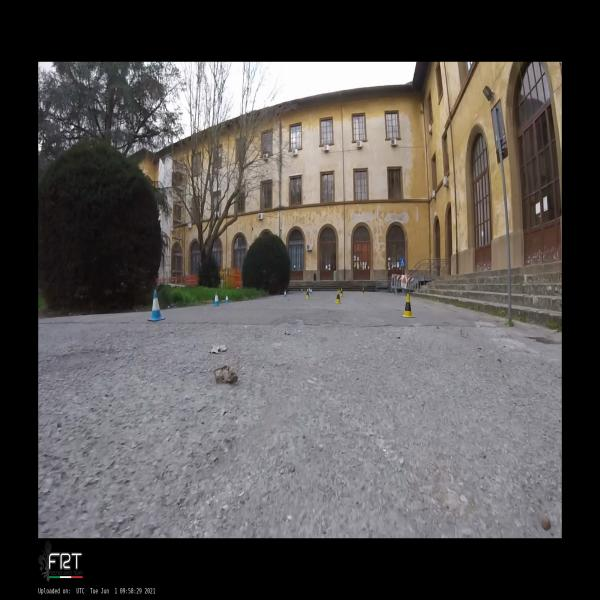blue_cone: (147, 290, 166, 321), (213, 292, 220, 306), (226, 294, 229, 302), (284, 290, 287, 296), (310, 288, 312, 293)
yellow_cone: (401, 293, 415, 318), (334, 290, 342, 304), (305, 289, 310, 299), (340, 288, 344, 297), (362, 287, 365, 295)
